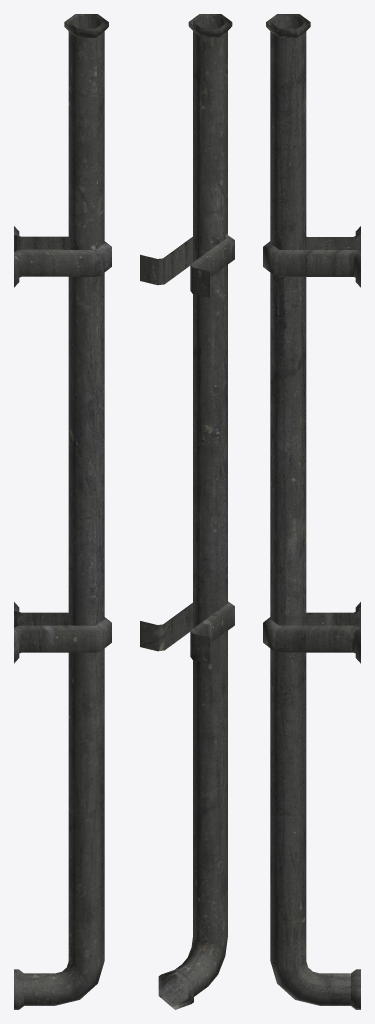
File: SM_Corridor_Pipe_Set_Gray_D.fbx
3 views of the same model, side by side, from view 1: azimuth 90°, elevation 25°; view 2: azimuth 150°, elevation 25°; view 3: azimuth 270°, elevation 25° (orthographic). The views are drawn at different scales.
Parts seen in each view (by area): view 1: SM_Corridor_Pipe_Set_Gray_D; view 2: SM_Corridor_Pipe_Set_Gray_D; view 3: SM_Corridor_Pipe_Set_Gray_D.
Boxes of the visible parts, x1,y1,x2,y2 form: SM_Corridor_Pipe_Set_Gray_D: (14,14,111,1009); SM_Corridor_Pipe_Set_Gray_D: (140,14,234,1009); SM_Corridor_Pipe_Set_Gray_D: (263,14,360,1009).
Size of the model in its own units: 16 by 210 by 18.89.
